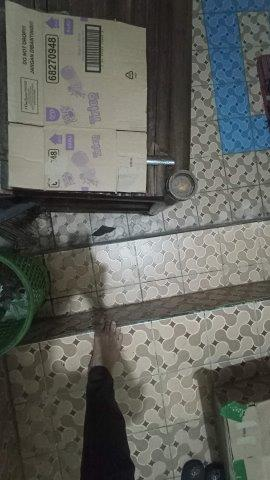kardus: (5, 1, 146, 191)
